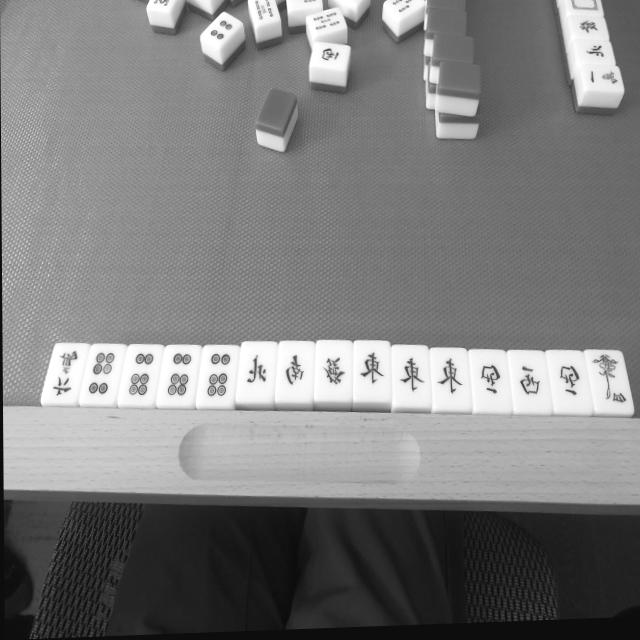4S: (591, 349, 629, 408)
6C: (52, 347, 80, 399)
6D: (205, 347, 233, 403), (128, 348, 156, 401), (89, 352, 118, 396), (167, 349, 192, 400)
EW: (354, 339, 391, 404), (393, 344, 430, 409), (432, 347, 467, 407)
GD: (318, 340, 351, 401)
NW: (242, 342, 271, 401)
SW: (280, 339, 311, 400)
WW: (477, 358, 504, 405), (517, 364, 545, 400), (557, 361, 582, 401)
